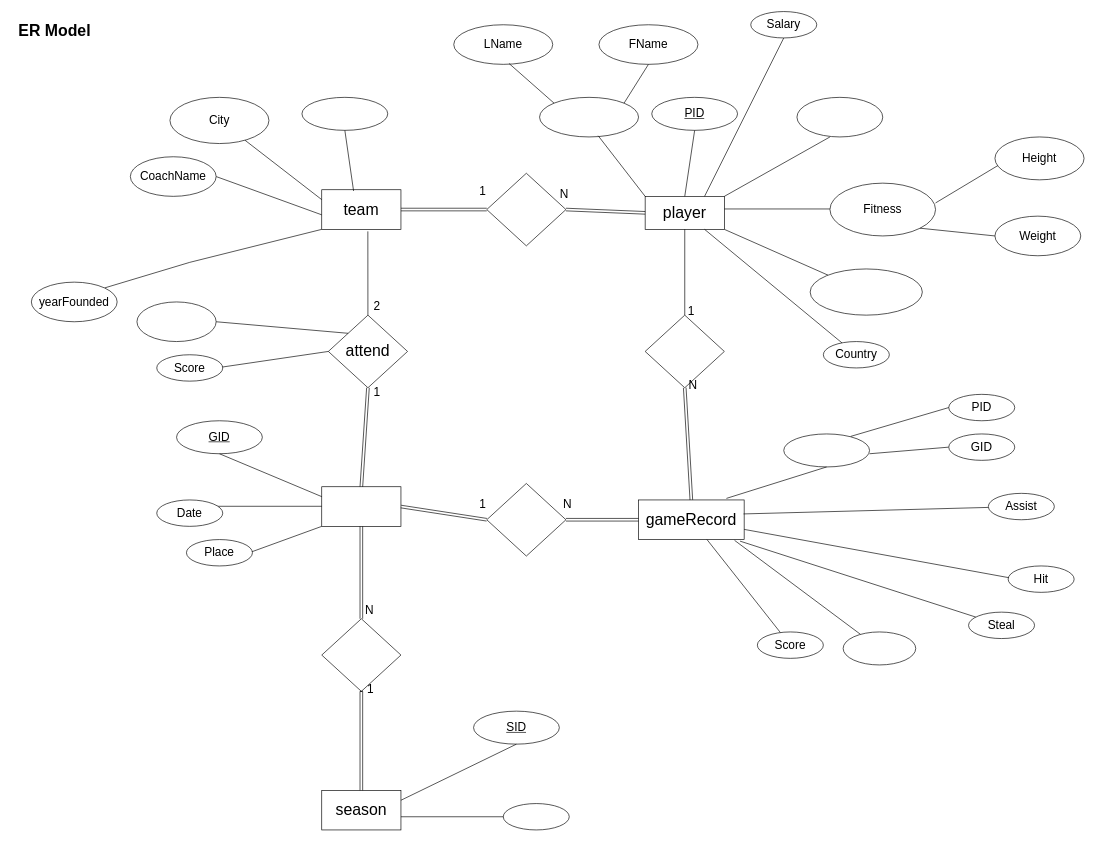
Image size: 1096x842. Some labels were removed from this diagram. The box of each missing label's shape, as (x1, y1, x2, y2) in pixels:
BDate: (796, 97, 883, 137)
belong: (486, 173, 566, 246)
game: (321, 486, 401, 526)
has: (644, 314, 724, 388)
in: (321, 618, 401, 691)
IsHomeTeam: (136, 301, 216, 342)
Name: (539, 97, 639, 137)
Position: (809, 268, 922, 315)
Rebound: (842, 631, 916, 665)
record: (486, 483, 566, 556)
RID: (783, 433, 870, 467)
TID: (301, 97, 388, 130)
year: (503, 803, 569, 830)
